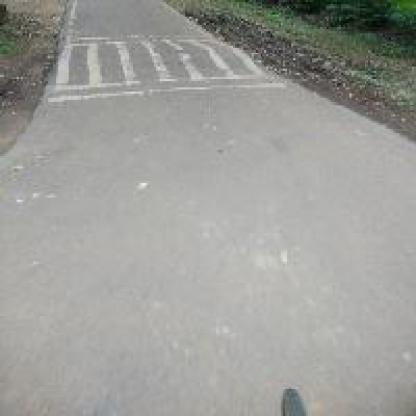Speed Bump: (48, 31, 266, 102)
